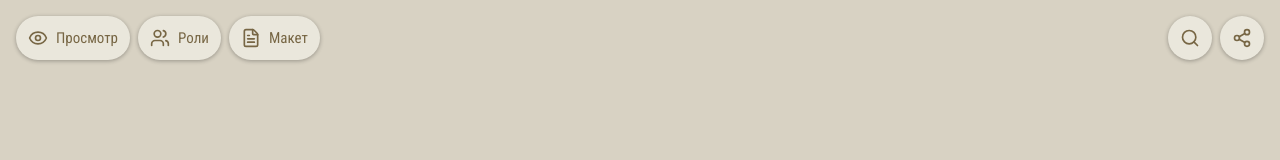
Test case: FloatingToolbar › показывает совпадения только после ввода
Click the button named "Поиск" at (1190, 38), box [1168, 16, 1212, 60]
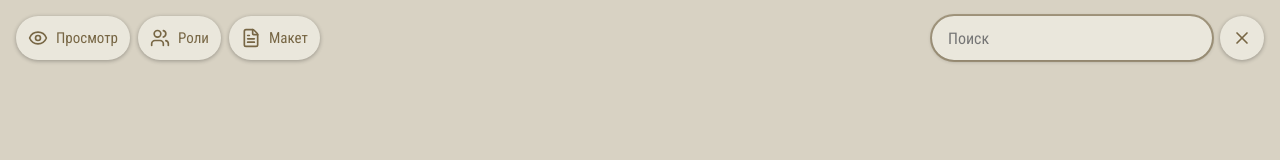
Type "пов" into the search field at (1072, 38), box [932, 16, 1212, 60]
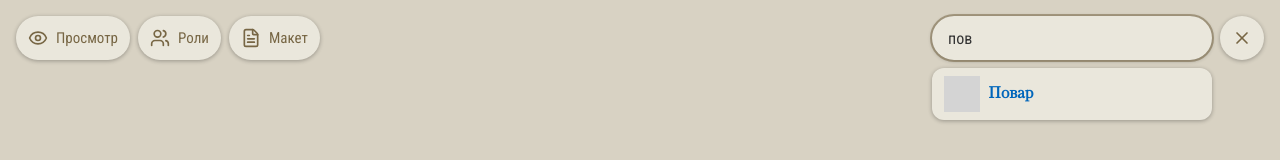
Expected: the button "Повар" is shown, [936, 72, 1208, 116]
